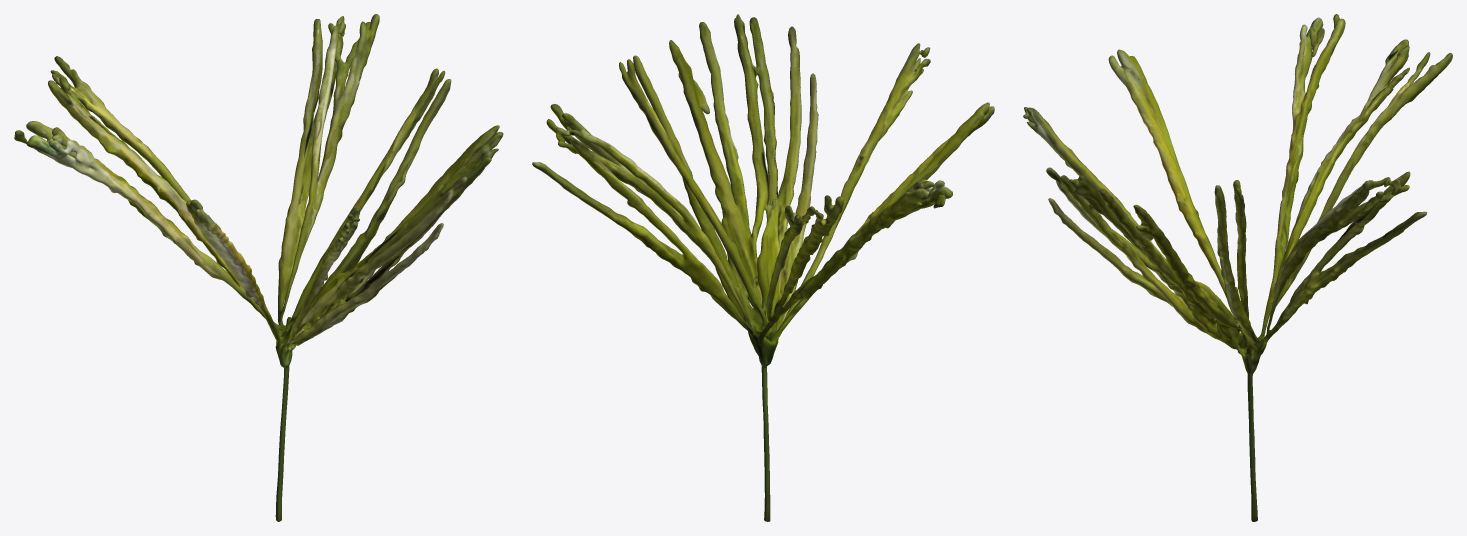
Rendered from grass0014_dup.gltf.
3 views of the same model, side by side, from view 1: azimuth 30°, elevation 25°; view 2: azimuth 150°, elevation 25°; view 3: azimuth 270°, elevation 25° (orthographic). The views are drawn at different scales.
Visible parts, largest first — view 1: Mesh_0.005; view 2: Mesh_0.005; view 3: Mesh_0.005.
Boxes of the visible parts, left/top/right/bottom form: Mesh_0.005: left=14, top=14, right=503, bottom=521; Mesh_0.005: left=532, top=14, right=994, bottom=521; Mesh_0.005: left=1023, top=14, right=1452, bottom=521.
Size of the model in its own units: 1.87 by 2 by 1.87.
1 material, 1 textured.
